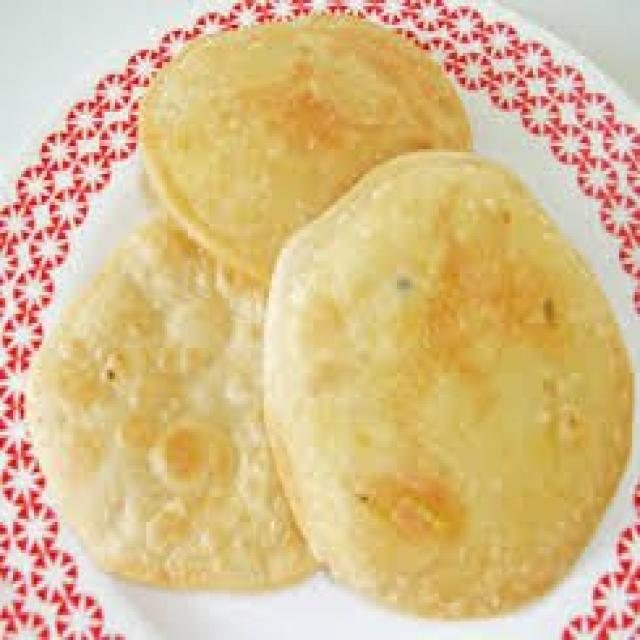puri: (74, 62, 630, 634)
